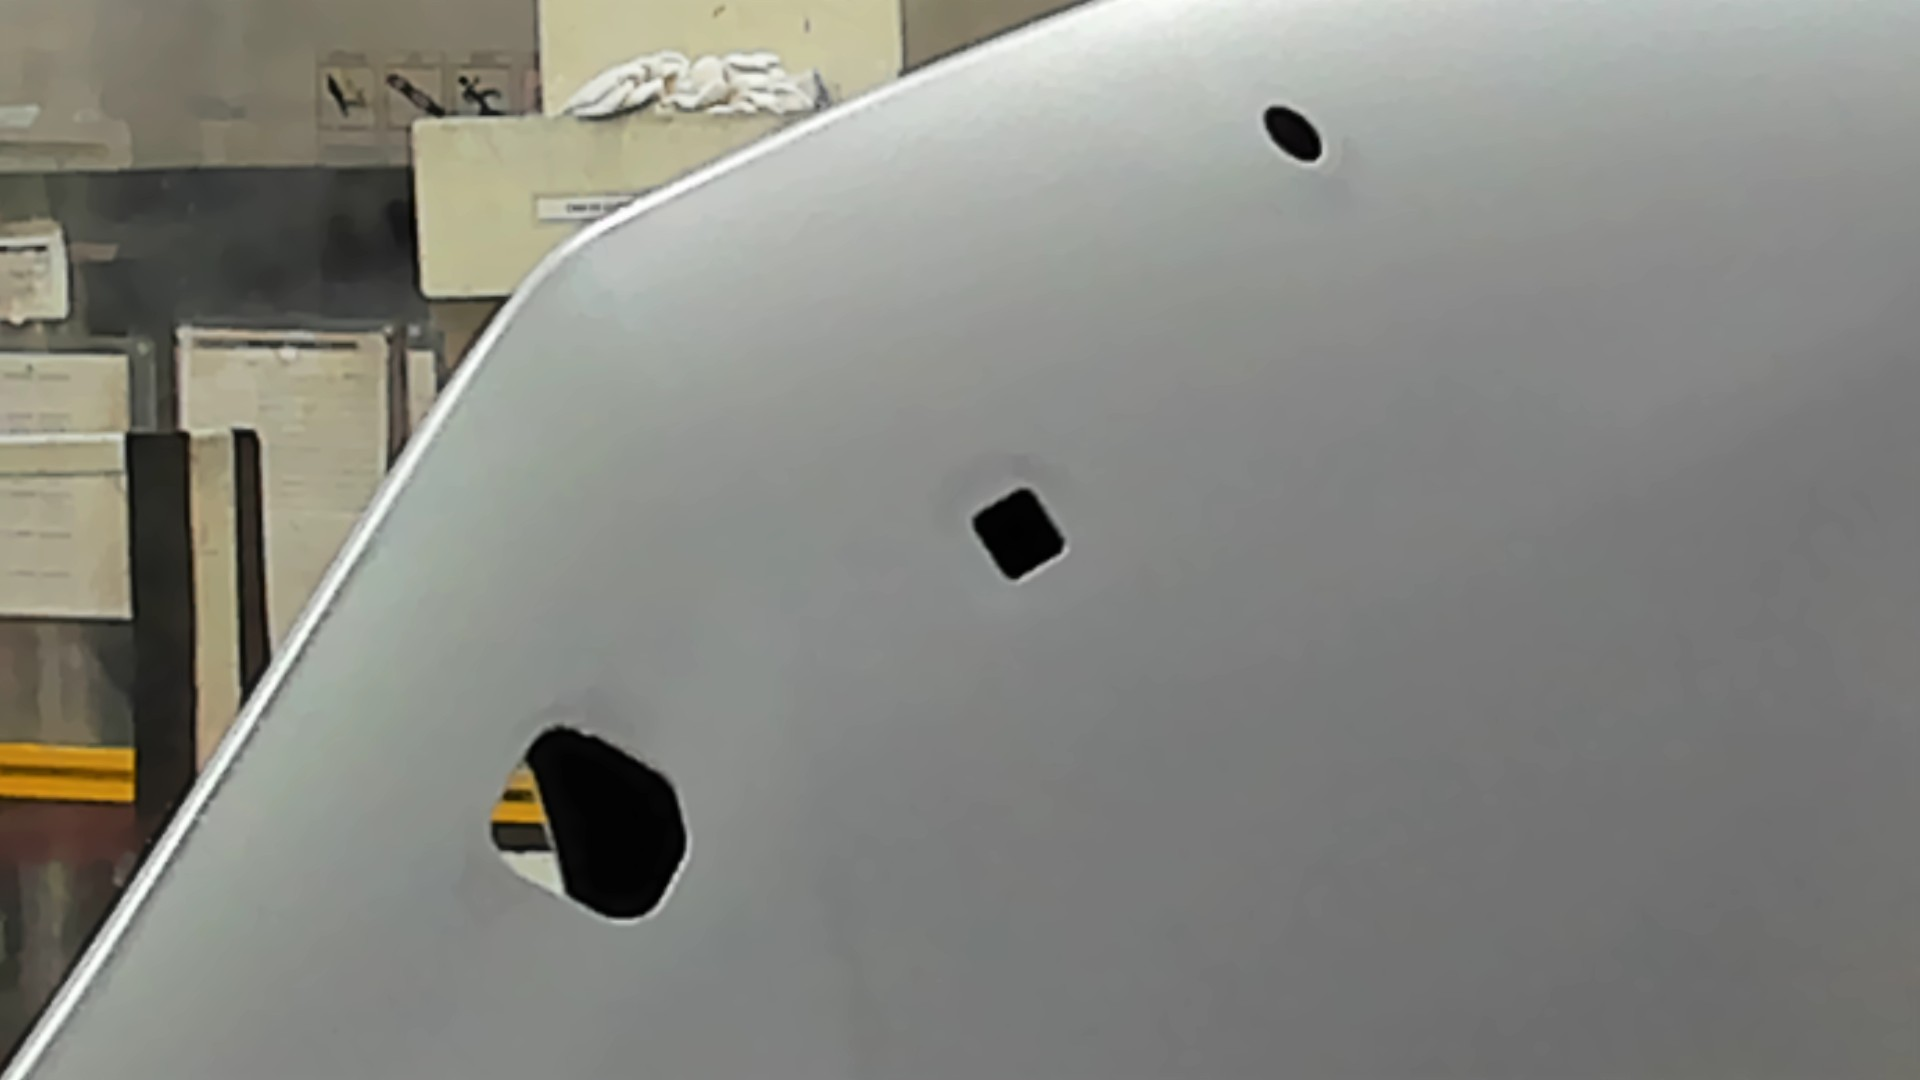chico: (1261, 102, 1328, 167)
grande: (484, 717, 695, 932)
mediano: (961, 483, 1073, 585)
